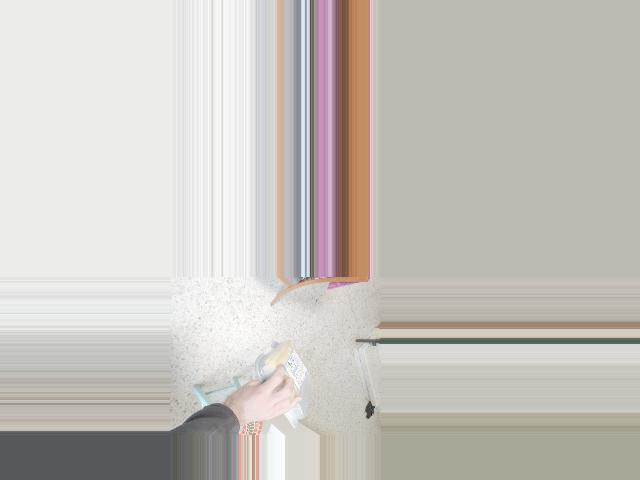cheese: (267, 333, 307, 422)
